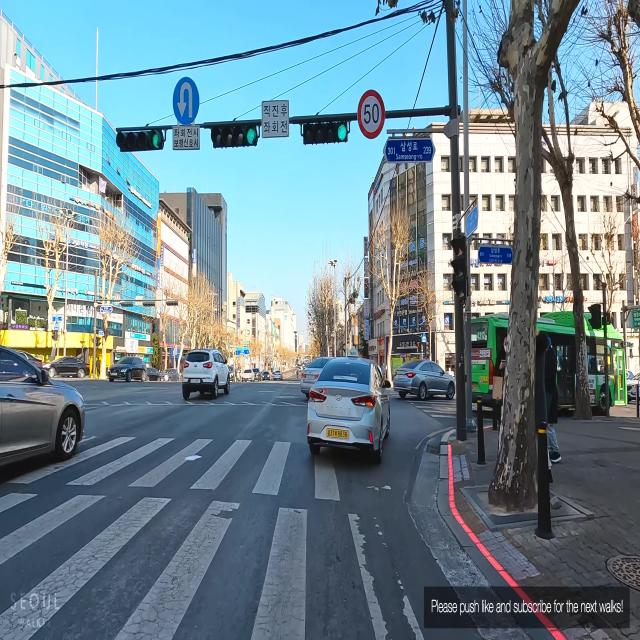Green Light: (244, 122, 258, 145), (149, 130, 162, 149), (337, 122, 347, 142)
